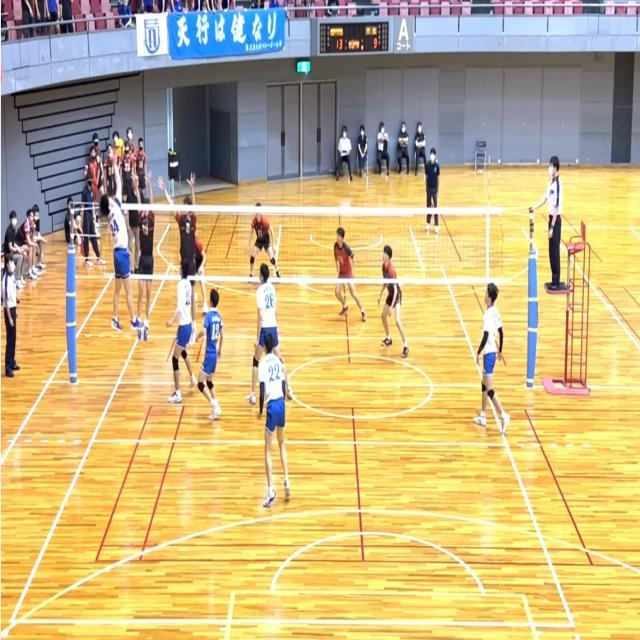spike: (100, 137, 144, 339)
